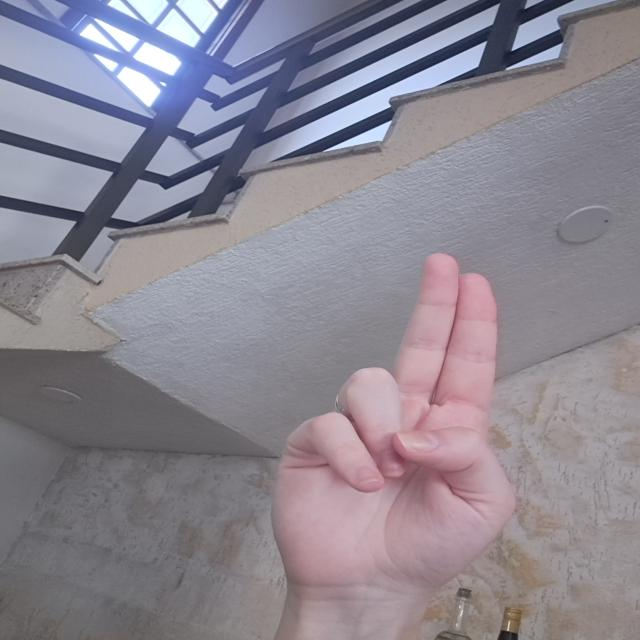U: (261, 249, 523, 584)
